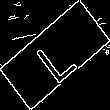L_NW: (29, 26, 81, 84)
